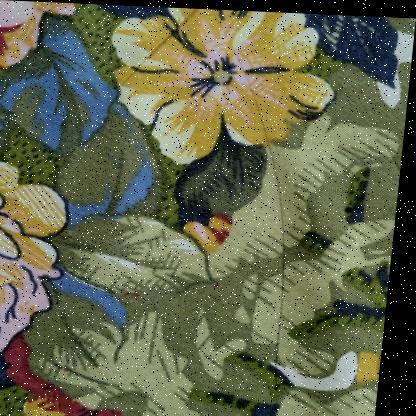spot: (206, 8, 298, 396), (124, 289, 151, 298), (217, 280, 230, 288)
